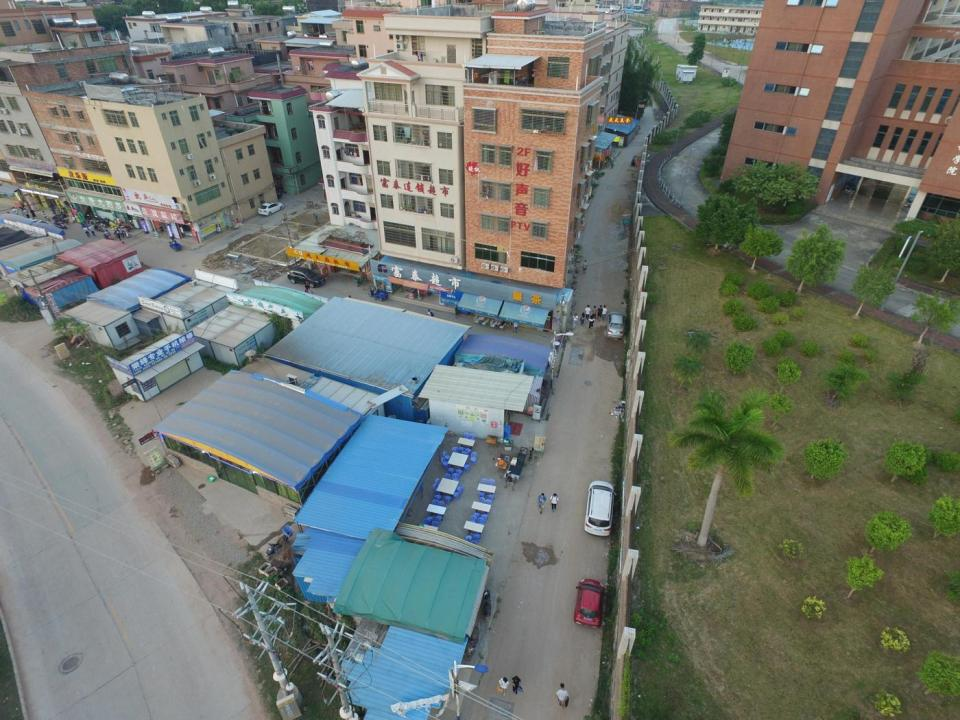car: (584, 480, 615, 536), (573, 578, 604, 626), (287, 265, 325, 288), (607, 311, 625, 339), (257, 201, 284, 215), (631, 154, 645, 167)
